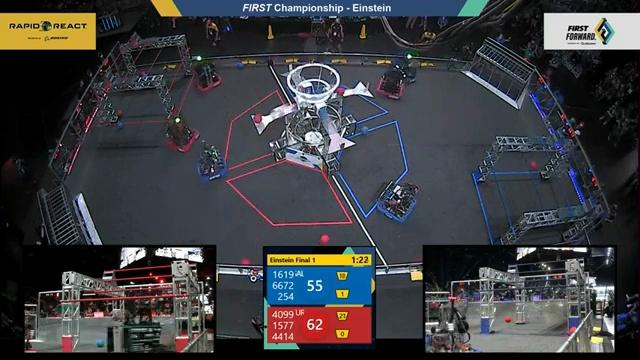robot: (372, 179, 423, 227), (191, 137, 229, 187), (160, 116, 200, 157), (188, 55, 224, 98), (373, 69, 406, 106), (386, 51, 420, 86)
